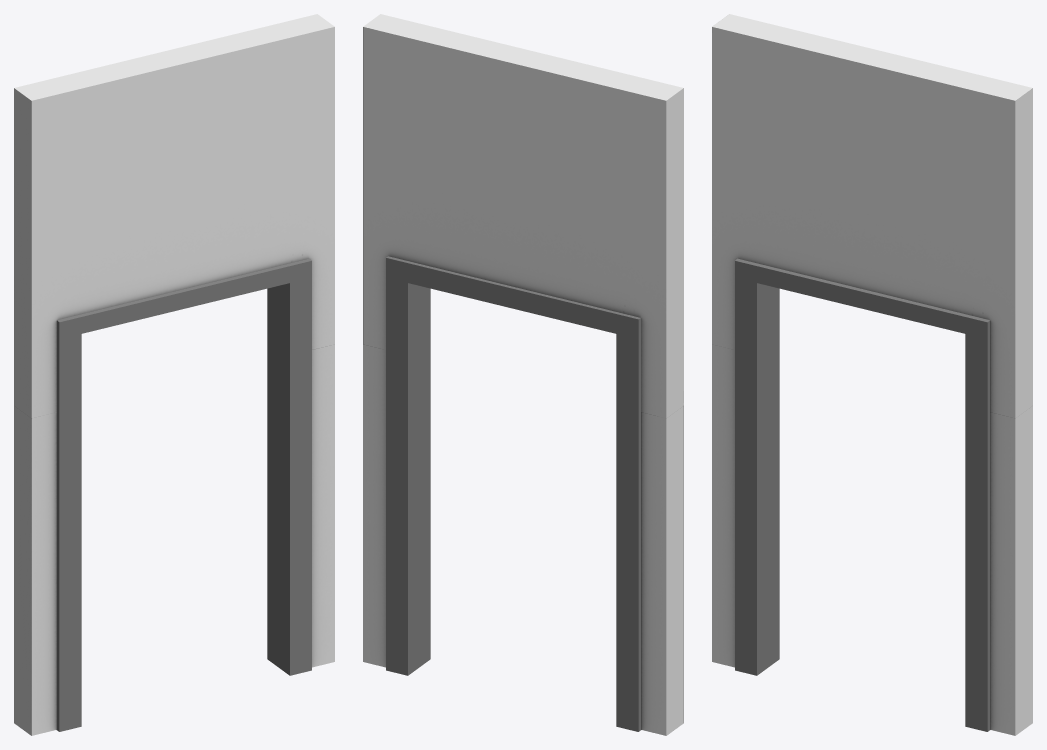
File: PaintedWallDoor.fbx
3 renders of one model, left to right at view 1: azimuth 30°, elevation 25°; view 2: azimuth 150°, elevation 25°; view 3: azimuth 330°, elevation 25°, orthographic.
Visible parts, largest first — view 1: PaintedWallDoor; view 2: PaintedWallDoor; view 3: PaintedWallDoor.
Part boxes in pixels (x1,y1,x2,y2): PaintedWallDoor: [14, 14, 334, 735]; PaintedWallDoor: [363, 14, 683, 735]; PaintedWallDoor: [712, 14, 1032, 735].
Size of what is drawn, in the model's own units: 200 by 400 by 25.76.
